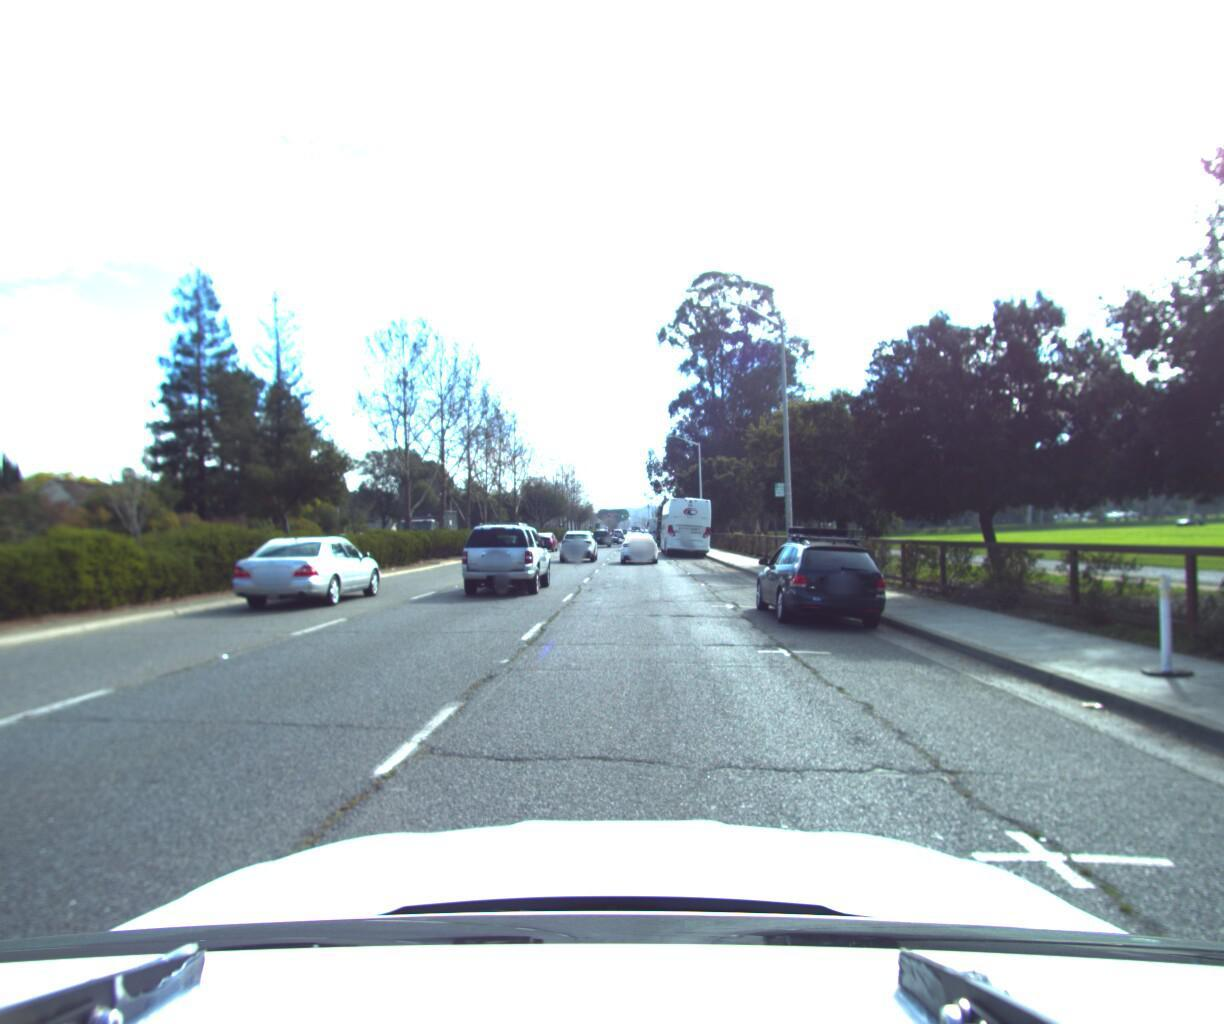bus: (657, 491, 716, 555), (651, 511, 682, 543)
car: (749, 517, 891, 633), (231, 532, 388, 614), (457, 515, 557, 598), (555, 528, 597, 562), (618, 527, 658, 560), (531, 528, 561, 549), (592, 527, 613, 546)
truck: (388, 502, 462, 549)
